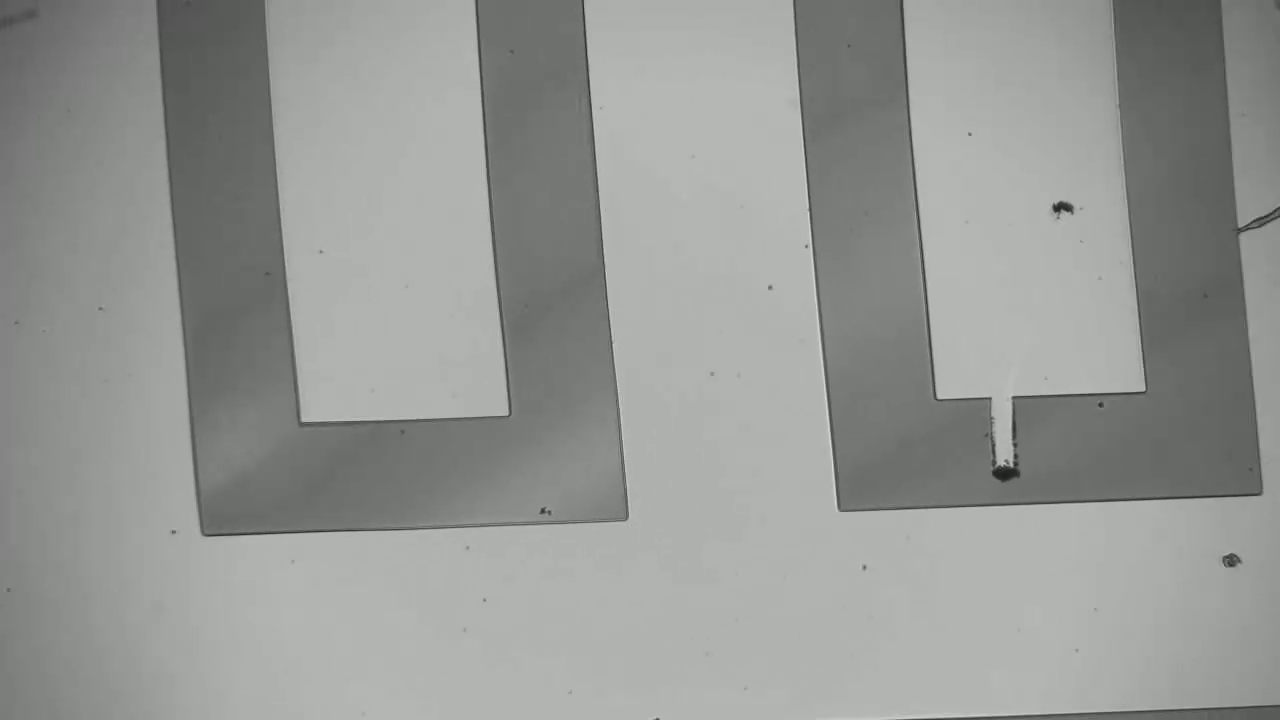Short_circuit: (974, 375, 1043, 530)
